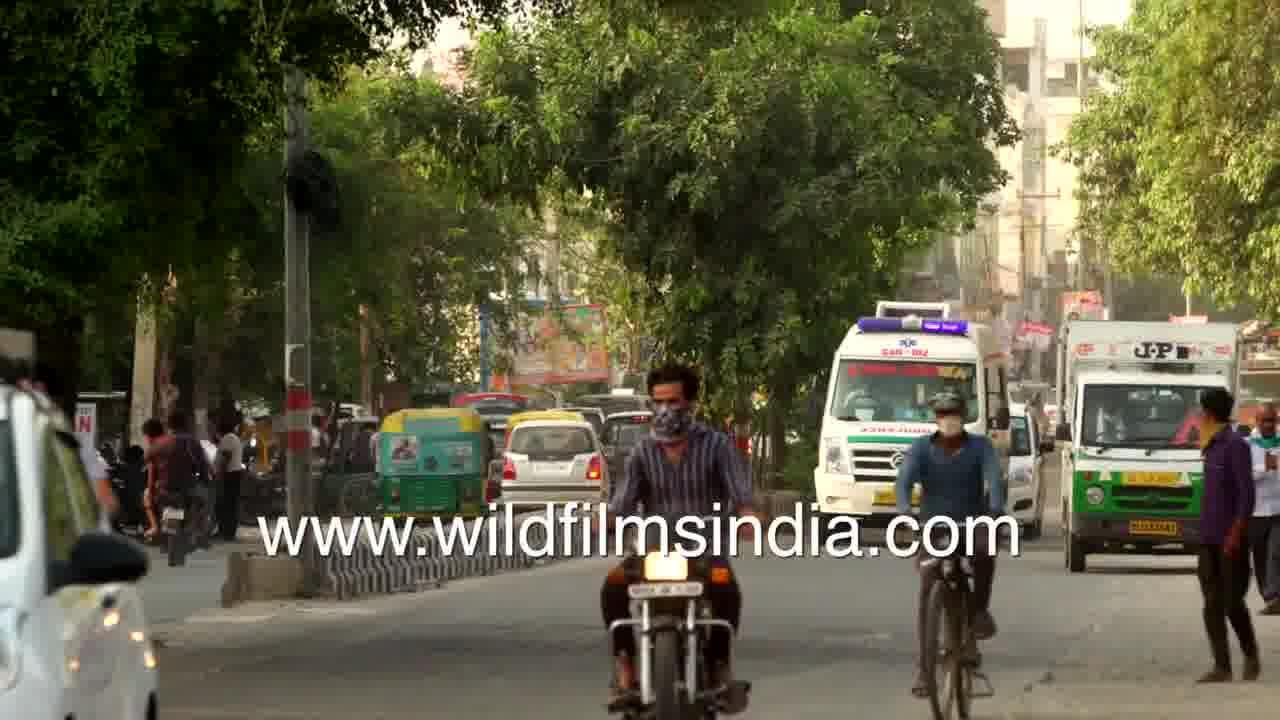AMBULANCE: (790, 283, 1035, 508)
